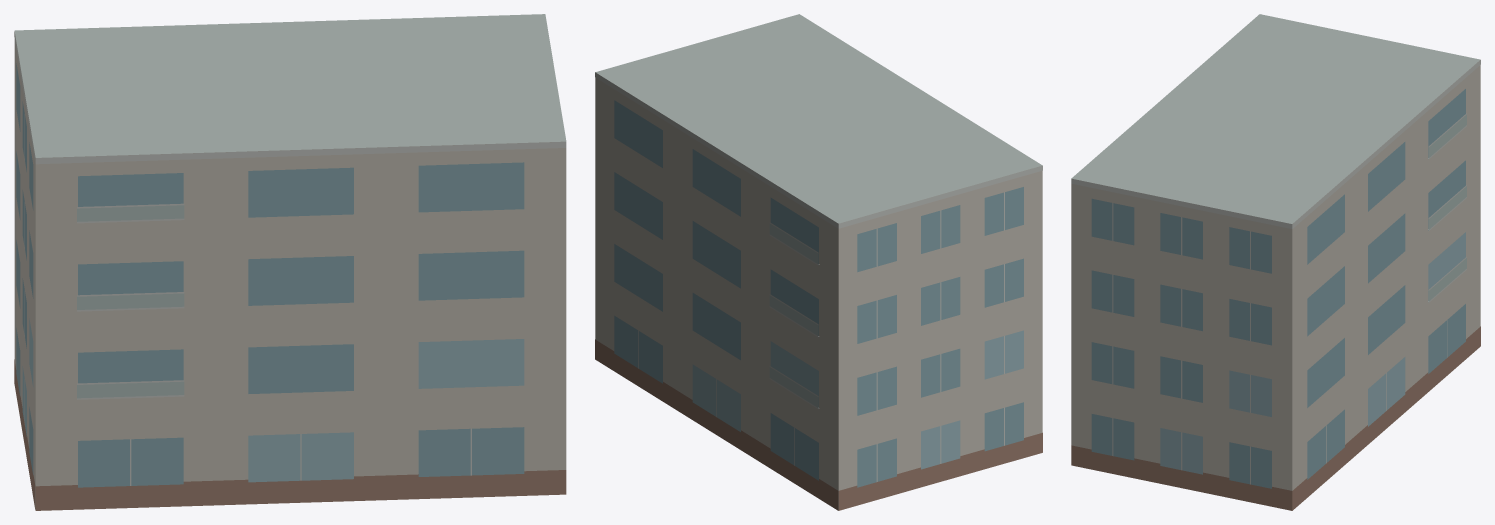
The model's file is survey-upis-32630117.glb.
3 renders of one model, left to right at view 1: azimuth 30°, elevation 25°; view 2: azimuth 150°, elevation 25°; view 3: azimuth 270°, elevation 25°, orthographic. The views are drawn at different scales.
Parts seen in each view (by area): view 1: survey-upis-32630117.tmp; view 2: survey-upis-32630117.tmp; view 3: survey-upis-32630117.tmp.
Part boxes in pixels (box(x1,y1,x2,y2)): survey-upis-32630117.tmp: box(14, 14, 566, 510); survey-upis-32630117.tmp: box(595, 14, 1042, 510); survey-upis-32630117.tmp: box(1071, 14, 1480, 510).
Bounding box in the file's own units: 21.54 × 13.7 × 17.74.
